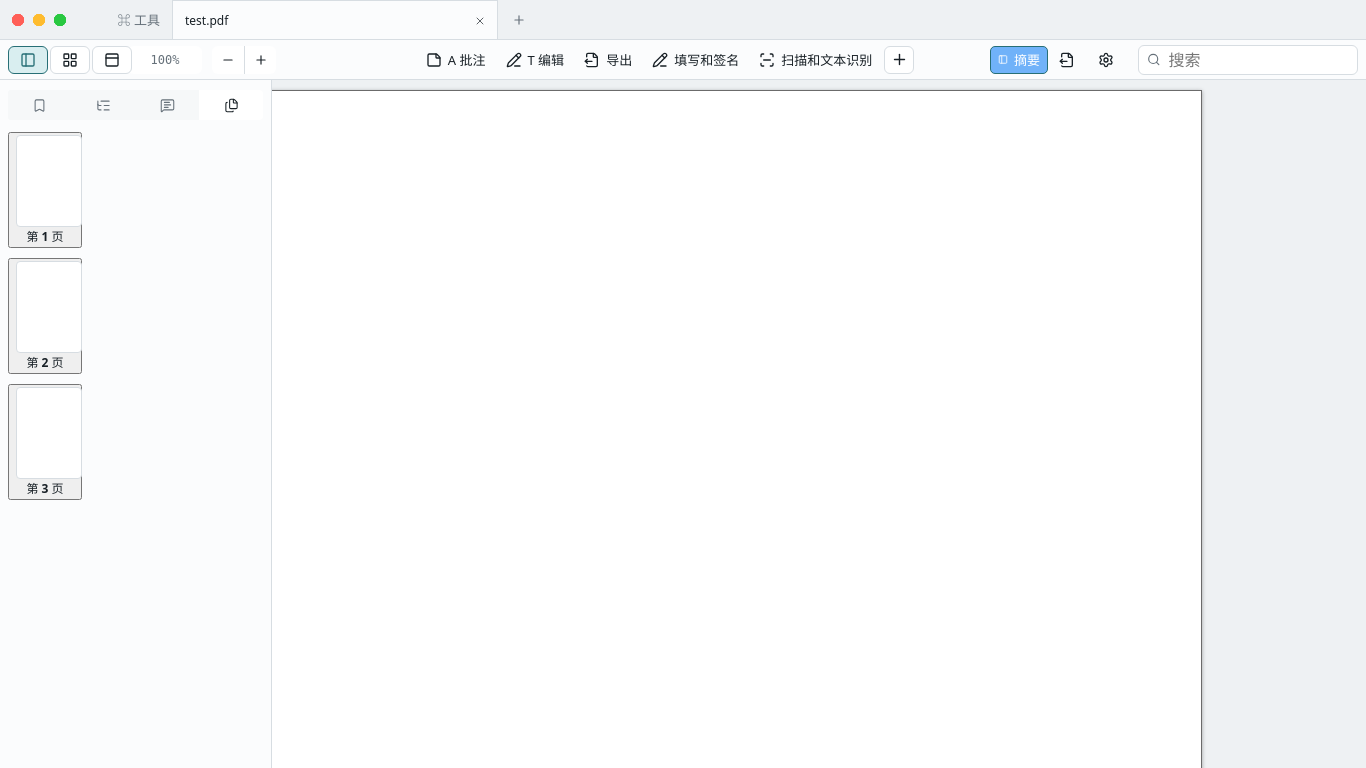
Test: AppShell M4：页面书签闭环 › Toolbar 摘要入口打开 summary，再由 L5a tab 进入书签
Click the tab named "书签": coordinates (40, 105) [8, 90, 72, 120]
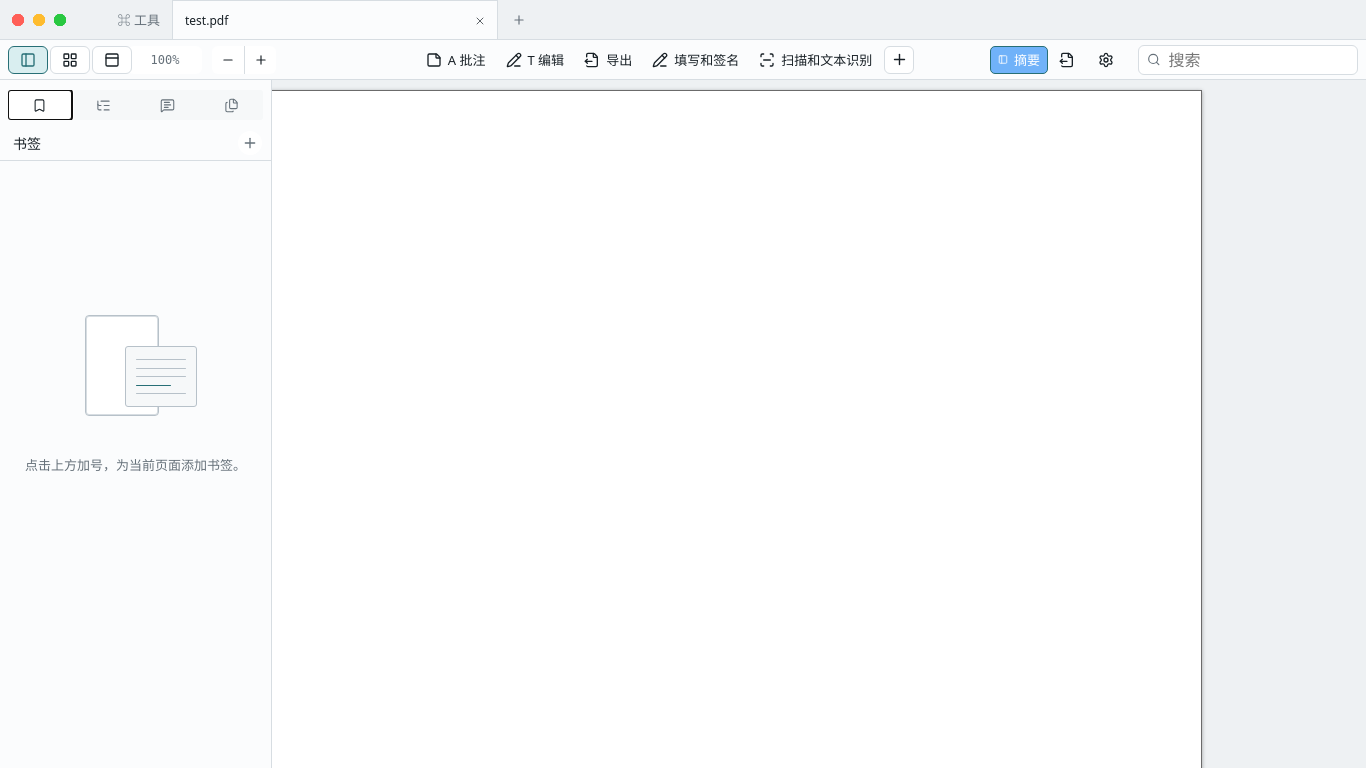
Now the panel named "书签面板" is shown, box [0, 126, 271, 475]
